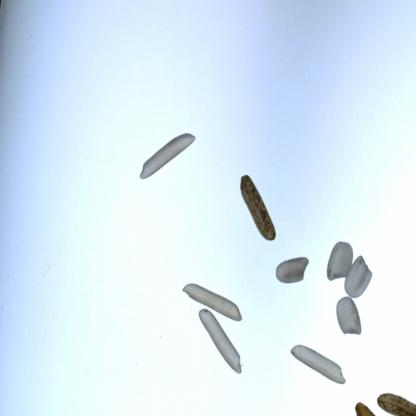Full: (134, 107, 202, 190), (221, 172, 284, 249), (192, 302, 247, 380), (176, 279, 246, 320), (289, 342, 353, 383), (352, 378, 415, 416), (341, 367, 386, 416), (266, 242, 312, 285), (327, 286, 367, 330), (339, 242, 372, 292), (321, 230, 351, 278)
